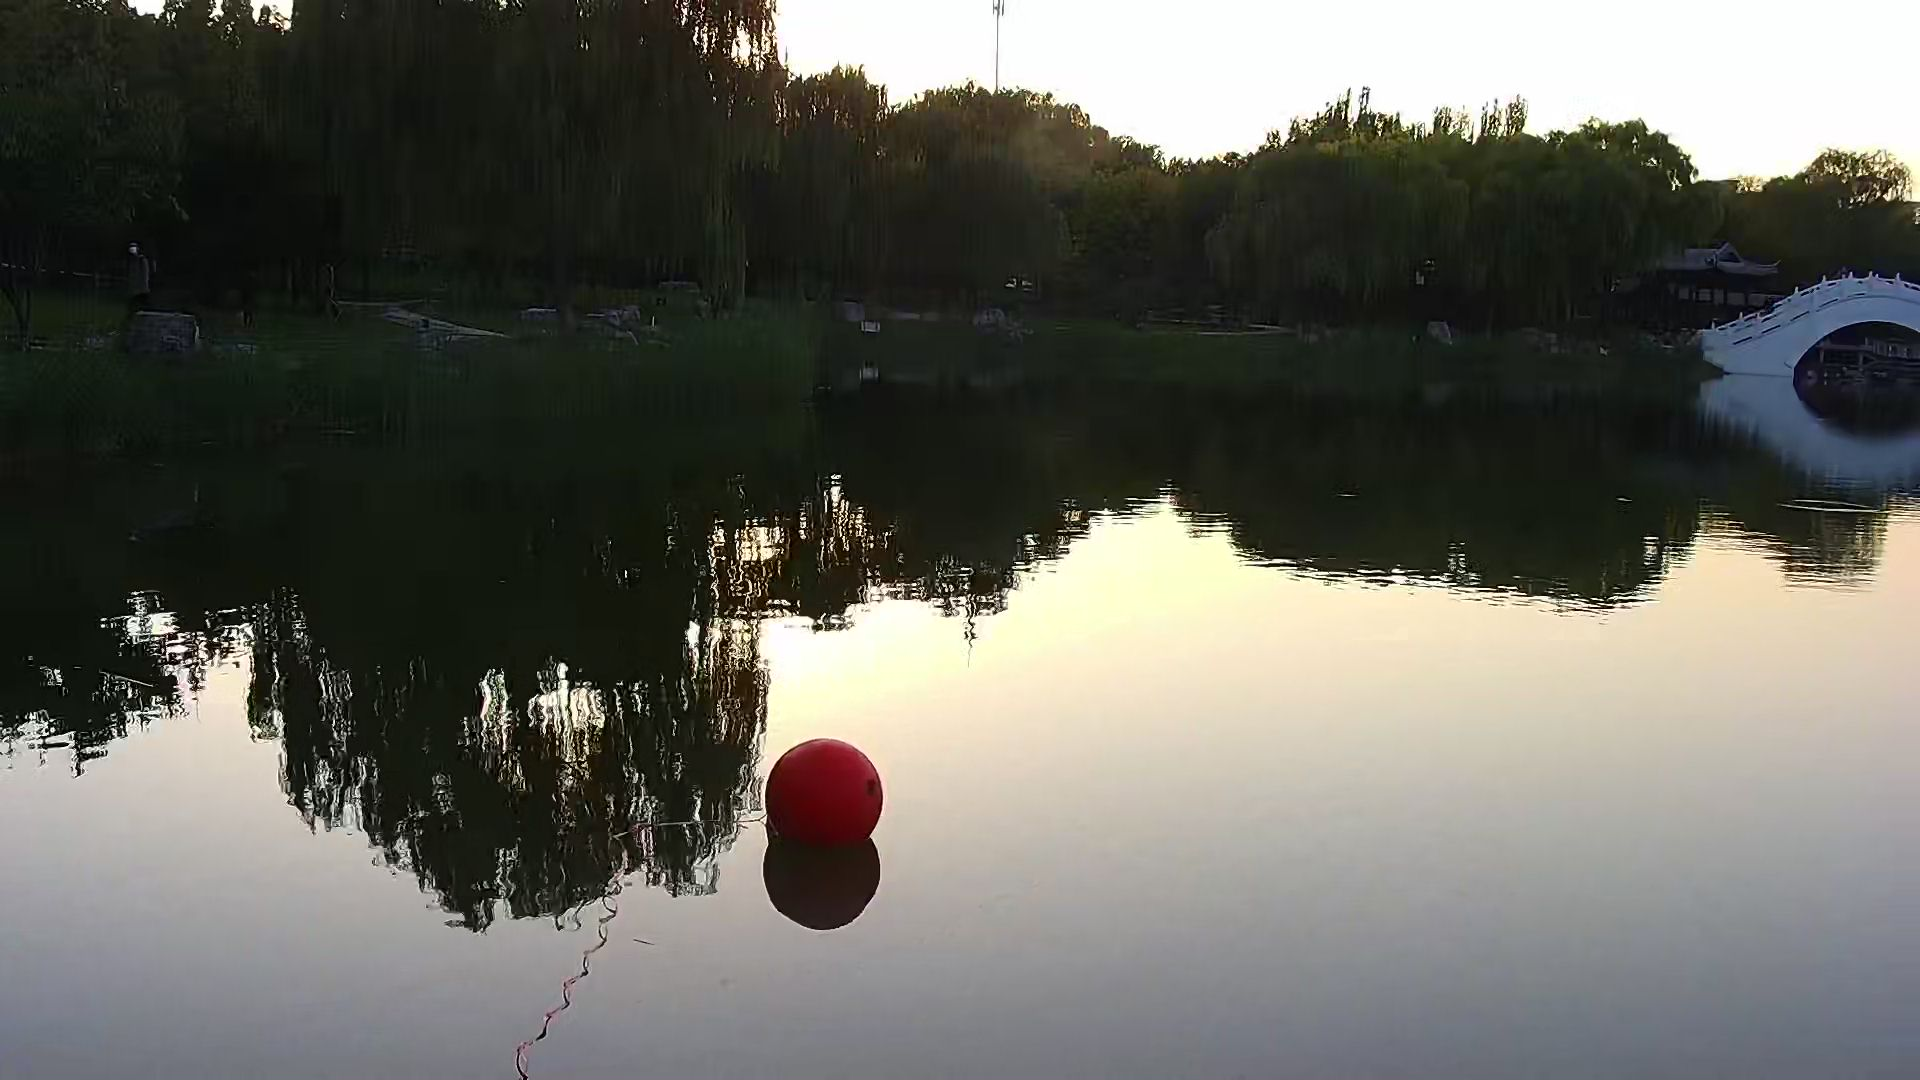bridge: (1700, 274, 1920, 378)
rubbish: (765, 742, 882, 860)
